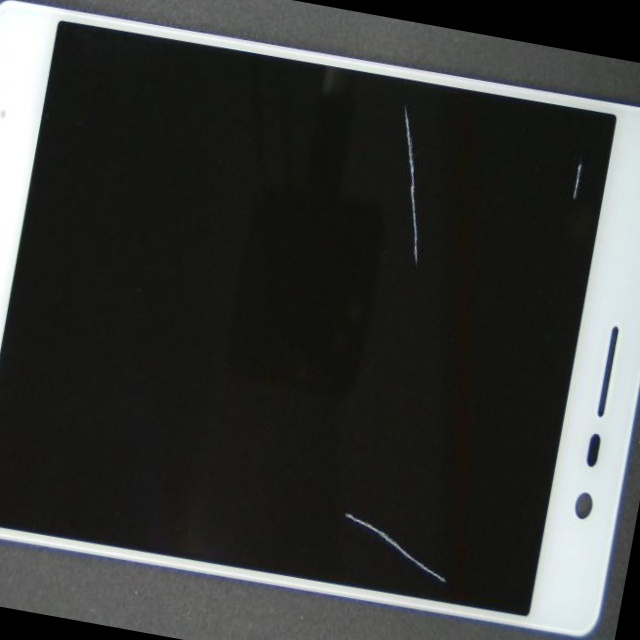scratch: (146, 294, 640, 640), (187, 169, 640, 382), (285, 32, 640, 210)
